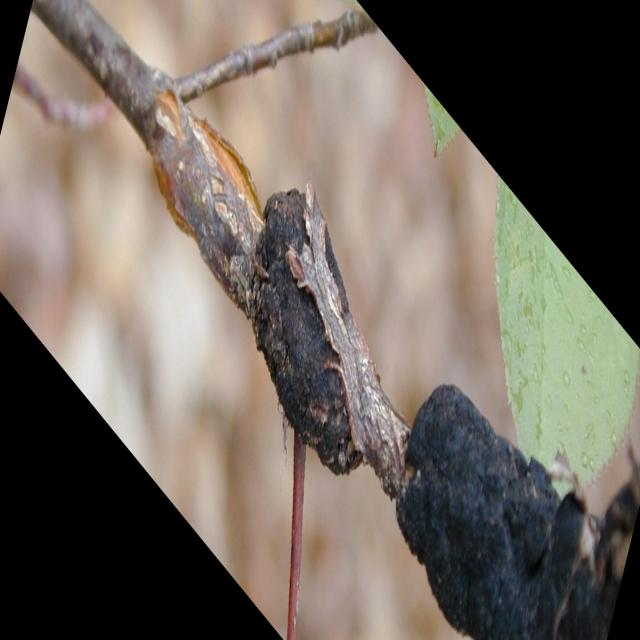Black_knot: (395, 379, 636, 637), (249, 182, 366, 477)
